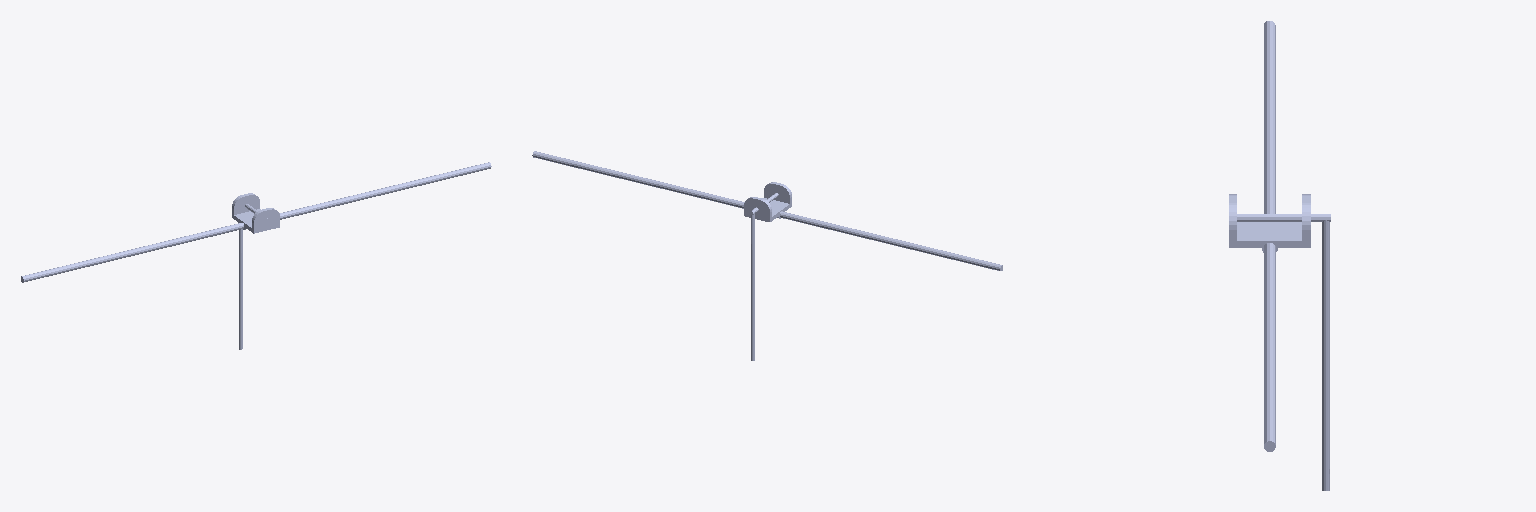
URDF robot description (625):
<?xml version="1.0" encoding="utf-8"?>
<!-- This URDF was automatically created by SolidWorks to URDF Exporter! Originally created by Stephen Brawner (brawner@gmail.com) 
     Commit Version: 1.6.0-4-g7f85cfe  Build Version: 1.6.7995.38578
     For more information, please see http://wiki.ros.org/sw_urdf_exporter -->
<robot
  name="625">
  <link
    name="worldframe">
    <inertial>
      <origin
        xyz="-1.38777878078145E-17 0 0"
        rpy="0 0 0" />
      <mass
        value="0.110269902141002" />
      <inertia
        ixx="1.98485823853803E-06"
        ixy="0"
        ixz="-6.23297226145094E-37"
        iyy="0.00873643623935175"
        iyz="0"
        izz="0.00873643623935175" />
    </inertial>
    <visual>
      <origin
        xyz="0 0 0"
        rpy="0 0 0" />
      <geometry>
        <mesh
          filename="package://625/meshes/worldframe.STL" />
      </geometry>
      <material
        name="">
        <color
          rgba="0.792156862745098 0.819607843137255 0.933333333333333 1" />
      </material>
    </visual>
    <collision>
      <origin
        xyz="0 0 0"
        rpy="0 0 0" />
      <geometry>
        <mesh
          filename="package://625/meshes/worldframe.STL" />
      </geometry>
    </collision>
  </link>
  <link
    name="cart">
    <inertial>
      <origin
        xyz="0 -0.0115731328196949 1.38777878078145E-17"
        rpy="0 0 0" />
      <mass
        value="0.0591176983883785" />
      <inertia
        ixx="2.1955477069531E-05"
        ixy="-7.02544661956166E-21"
        ixz="-1.71639977104753E-20"
        iyy="6.51288177802238E-05"
        iyz="-1.27862900910289E-21"
        izz="5.84869244964136E-05" />
    </inertial>
    <visual>
      <origin
        xyz="0 0 0"
        rpy="0 0 0" />
      <geometry>
        <mesh
          filename="package://625/meshes/cart.STL" />
      </geometry>
      <material
        name="">
        <color
          rgba="0.792156862745098 0.819607843137255 0.933333333333333 1" />
      </material>
    </visual>
    <collision>
      <origin
        xyz="0 0 0"
        rpy="0 0 0" />
      <geometry>
        <mesh
          filename="package://625/meshes/cart.STL" />
      </geometry>
    </collision>
  </link>
  <joint
    name="cart_prismatic"
    type="prismatic">
    <origin
      xyz="0 0 0"
      rpy="-1.5708 0 1.5708" />
    <parent
      link="worldframe" />
    <child
      link="cart" />
    <axis
      xyz="0 0 1" />
    <limit
      lower="-0.45"
      upper="0.45"
      effort="150"
      velocity="10" />
  </joint>
  <link
    name="pole">
    <inertial>
      <origin
        xyz="0.110628550437928 7.64757812993233E-07 0.00747893096278375"
        rpy="0 0 0" />
      <mass
        value="0.0196338198617314" />
      <inertia
        ixx="1.18986451079751E-05"
        ixy="-5.00651553640558E-10"
        ixz="-2.50233051799663E-05"
        iyy="0.000197330863226456"
        iyz="-4.42819475899637E-11"
        izz="0.000185589544905526" />
    </inertial>
    <visual>
      <origin
        xyz="0 0 0"
        rpy="0 0 0" />
      <geometry>
        <mesh
          filename="package://625/meshes/pole.STL" />
      </geometry>
      <material
        name="">
        <color
          rgba="0.792156862745098 0.819607843137255 0.933333333333333 1" />
      </material>
    </visual>
    <collision>
      <origin
        xyz="0 0 0"
        rpy="0 0 0" />
      <geometry>
        <mesh
          filename="package://625/meshes/pole.STL" />
      </geometry>
    </collision>
  </link>
  <joint
    name="pole_continuous"
    type="continuous">
    <origin
      xyz="0.036 -0.02 0"
      rpy="1.5708 0 1.5708" />
    <parent
      link="cart" />
    <child
      link="pole" />
    <axis
      xyz="0 0 1" />
  </joint>
</robot>

--- Render facts (derived) ---
The picture shows the robot from 3 angles, left to right: view 1: azimuth 30°, elevation 25°; view 2: azimuth 150°, elevation 25°; view 3: azimuth 270°, elevation 25°; orthographic projection.
Robot: 625 — 3 links, 2 joints (1 continuous, 1 prismatic); root link worldframe; default pose: all joints at 0.
Visible links, largest first — view 1: worldframe, cart, pole; view 2: worldframe, cart, pole; view 3: worldframe, pole, cart.
Link boxes in pixels (bbox=[...]): worldframe: bbox=[21, 162, 491, 282]; cart: bbox=[232, 193, 279, 233]; pole: bbox=[239, 204, 268, 349]; worldframe: bbox=[532, 151, 1002, 270]; cart: bbox=[744, 182, 791, 221]; pole: bbox=[750, 193, 778, 360]; worldframe: bbox=[1264, 21, 1275, 451]; pole: bbox=[1237, 214, 1330, 490]; cart: bbox=[1229, 194, 1310, 252].
Size in the robot's own frame: 0.975 by 0.1 by 0.314 metres.
Meshes: 3 distinct files referenced, 3 mesh visuals loaded (3 binary STL).
